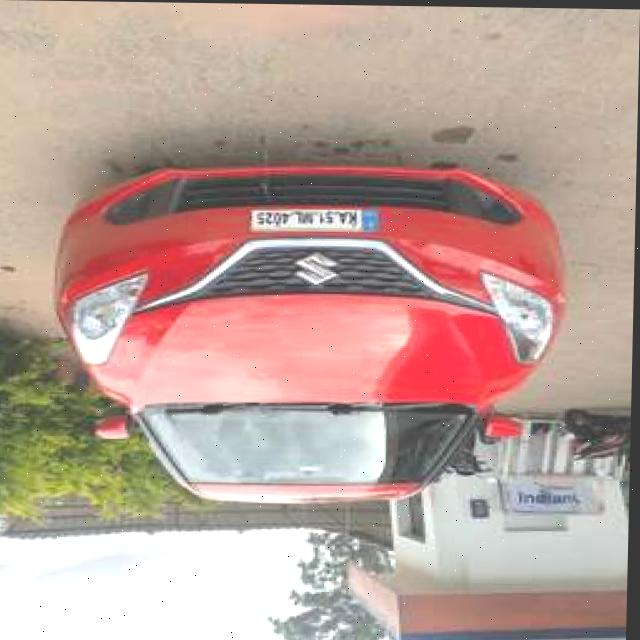plate: (248, 204, 382, 232)
